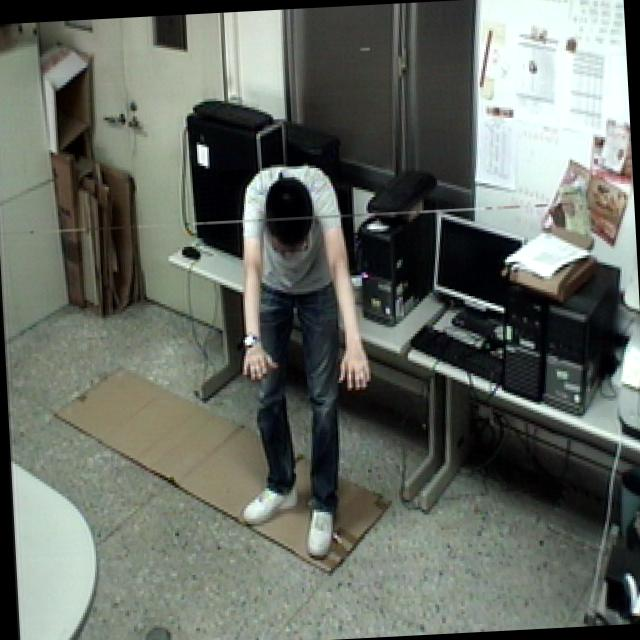bend: (208, 151, 385, 568)
